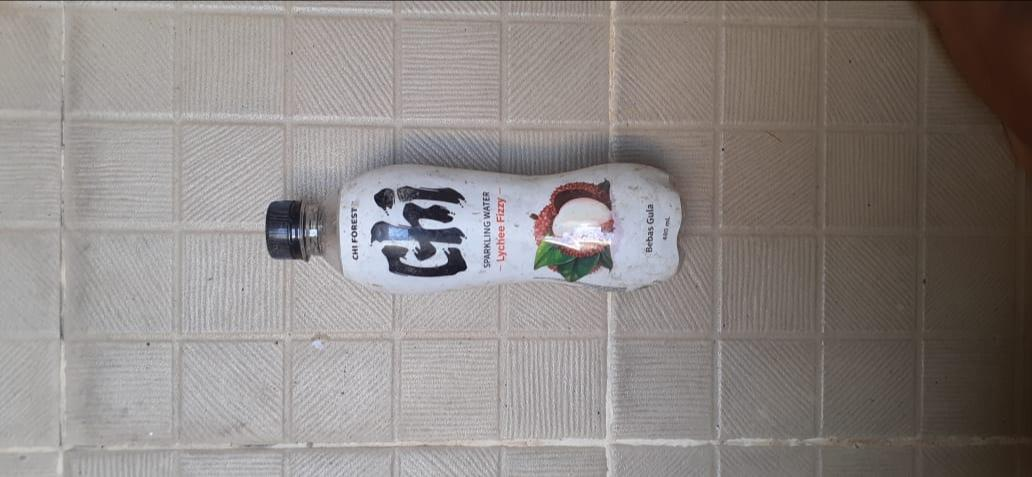Plastik: (266, 160, 684, 295)
